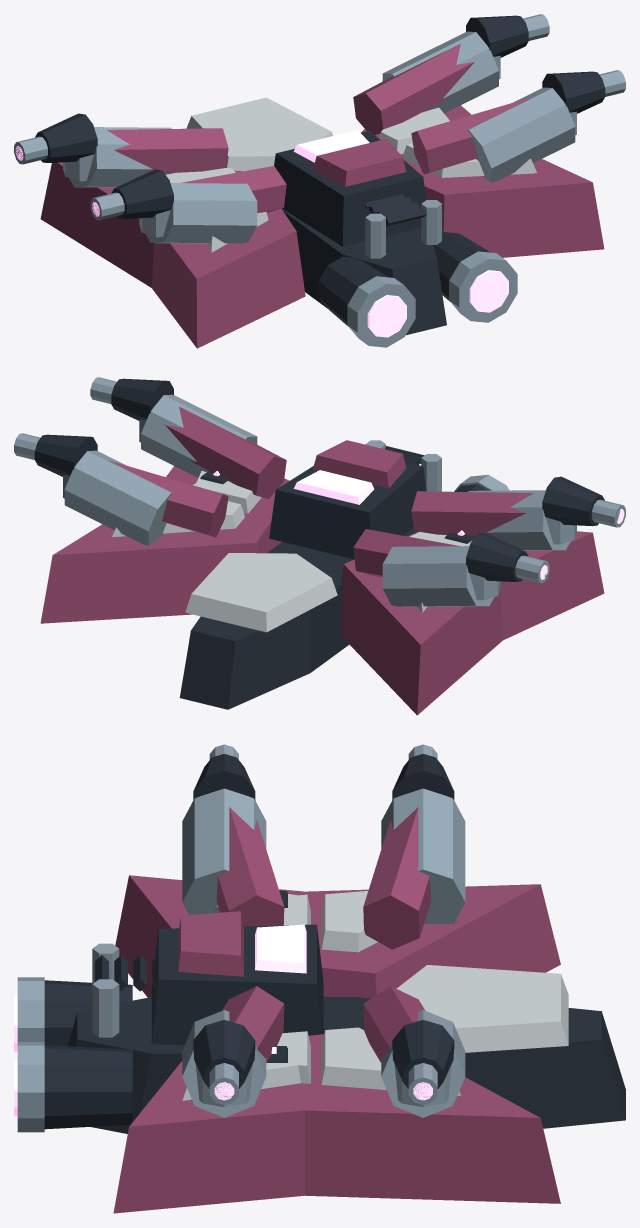
File: c2_broadside.glb
3 views of the same model, one above another, from view 1: azimuth 30°, elevation 25°; view 2: azimuth 150°, elevation 25°; view 3: azimuth 270°, elevation 25° (orthographic). The views are drawn at different scales.
Parts seen in each view (by area): view 1: c2_broadside / Armor, c2_broadside / Titanium, c2_broadside / Chassis, c2_broadside / Identification, c2_broadside / Energy; view 2: c2_broadside / Armor, c2_broadside / Chassis, c2_broadside / Titanium, c2_broadside / Identification, c2_broadside / Energy; view 3: c2_broadside / Armor, c2_broadside / Chassis, c2_broadside / Titanium, c2_broadside / Identification, c2_broadside / Energy.
Part boxes in pixels (<box>): c2_broadside / Armor: <box>40,43,604,348</box>; c2_broadside / Titanium: <box>14,14,625,347</box>; c2_broadside / Chassis: <box>35,15,605,335</box>; c2_broadside / Identification: <box>165,97,536,252</box>; c2_broadside / Energy: <box>15,130,508,337</box>; c2_broadside / Armor: <box>40,406,604,715</box>; c2_broadside / Chassis: <box>34,378,604,709</box>; c2_broadside / Titanium: <box>14,377,625,606</box>; c2_broadside / Identification: <box>112,471,472,632</box>; c2_broadside / Energy: <box>213,470,624,579</box>; c2_broadside / Armor: <box>113,807,560,1213</box>; c2_broadside / Chassis: <box>44,753,625,1133</box>; c2_broadside / Titanium: <box>17,744,465,1132</box>; c2_broadside / Identification: <box>182,891,568,1100</box>; c2_broadside / Energy: <box>14,924,432,1116</box>.
Size of the model in its own units: 2.06 by 0.605 by 1.6.
